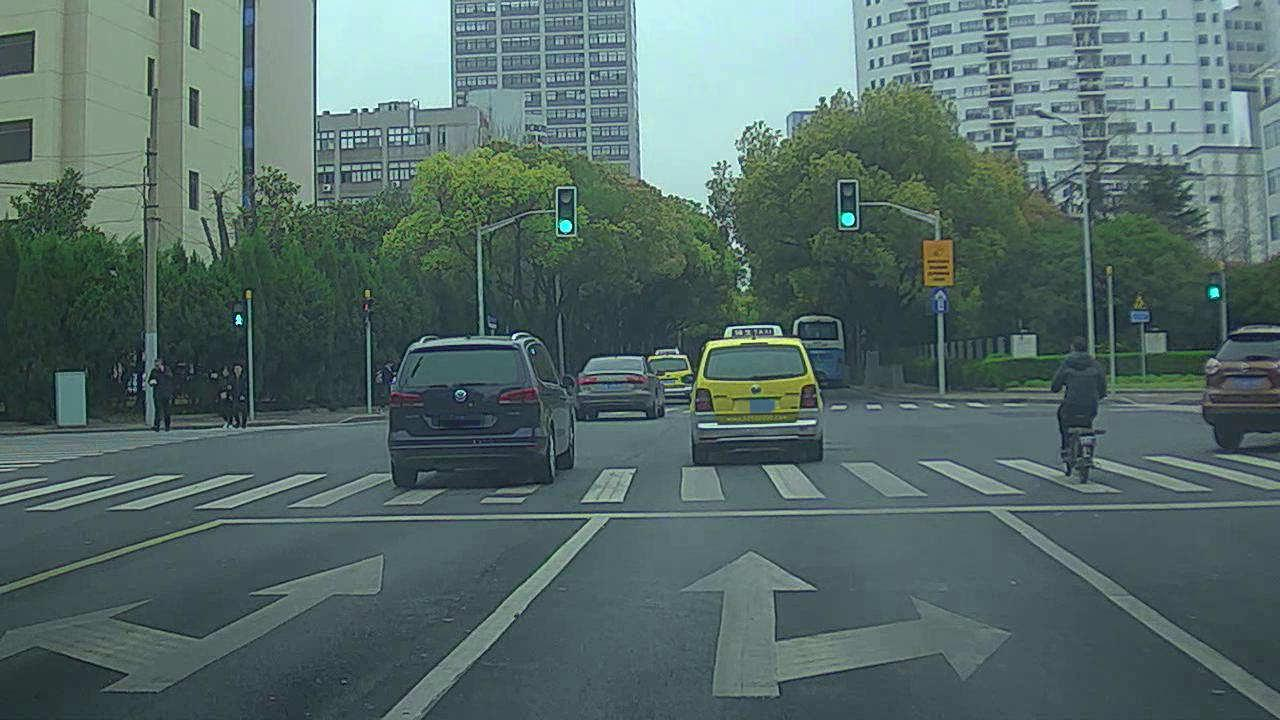traffic_light: (835, 180, 861, 232), (558, 186, 575, 235)
